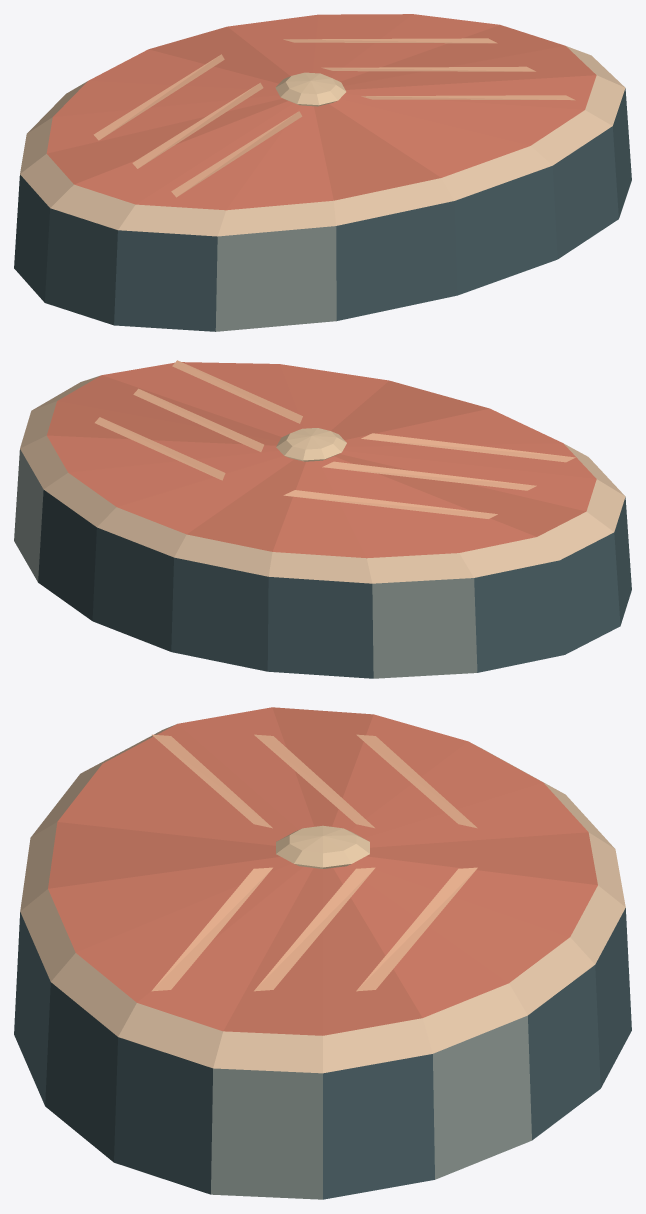
Rendered from Crosscut.glb.
3 views of the same model, one above another, from view 1: azimuth 30°, elevation 25°; view 2: azimuth 150°, elevation 25°; view 3: azimuth 270°, elevation 25° (orthographic). The views are drawn at different scales.
Visible parts, largest first — view 1: Crosscut; view 2: Crosscut; view 3: Crosscut.
Part boxes in pixels (x1,y1,x2,y2): Crosscut: (14,14,631,331); Crosscut: (14,360,631,678); Crosscut: (14,707,631,1199).
Size of the model in its own units: 0.2646 by 0.06 by 0.1872.
